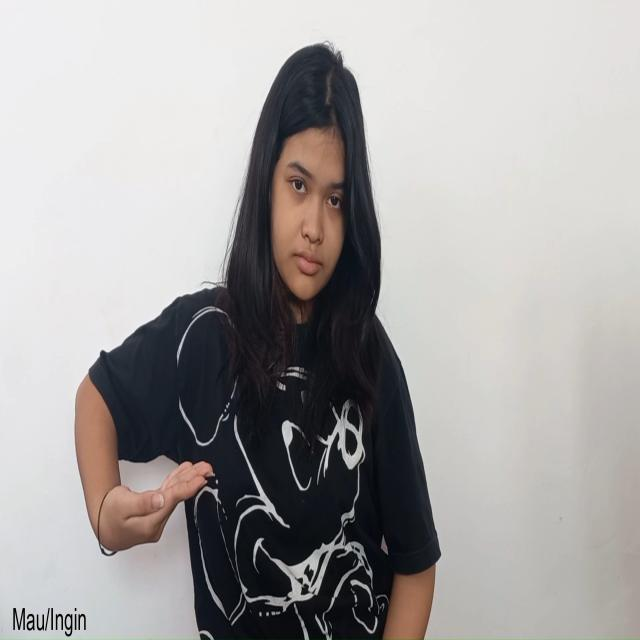Mau-Ingin -BISINDO-: (94, 455, 218, 554)
